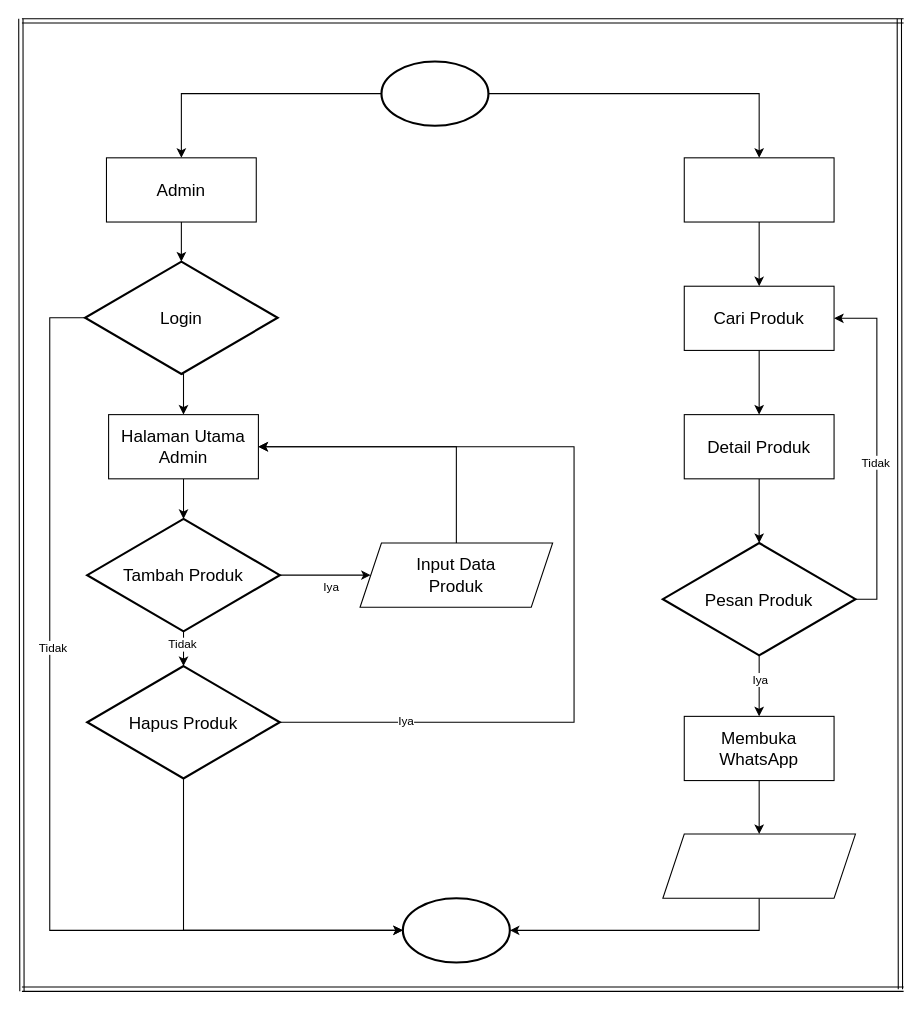
Some shapes in this 922 by 1010 pixel diagram are drawn without their labels. The shapes that lost their labels are listed below. From the top down, each one's centre as x and y in pixels, then its label:
[434,93]: Mulai
[758,189]: User
[758,865]: Input Nama User, Jumlah, Alamat
[455,930]: Selesai
